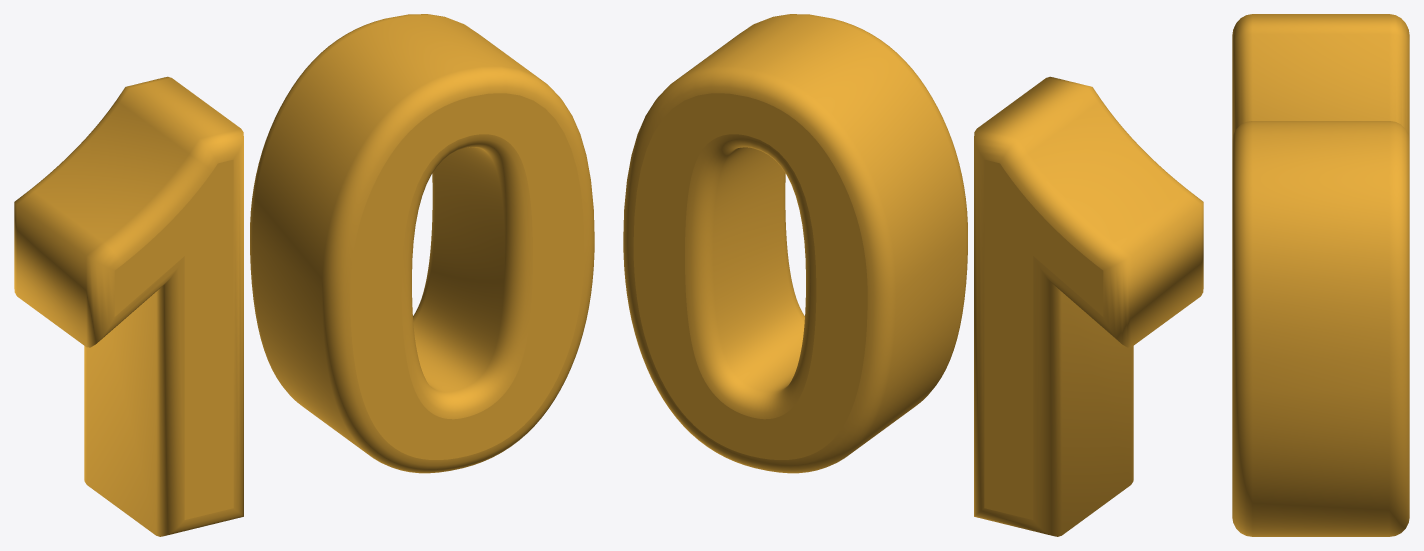
3 renders of one model, left to right at view 1: azimuth 30°, elevation 25°; view 2: azimuth 150°, elevation 25°; view 3: azimuth 270°, elevation 25°, orthographic.
Visible parts, largest first — view 1: Text; view 2: Text; view 3: Text.
Boxes of the visible parts, x1,y1,x2,y2 form: Text: (14,14,594,536); Text: (623,14,1203,536); Text: (1232,14,1409,536).
Size of the model in its own units: 84.2 by 63.03 by 26.
